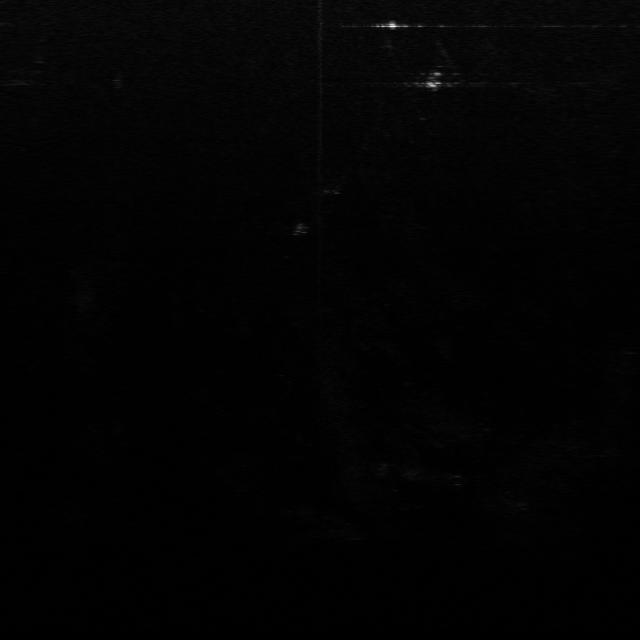rov: (420, 67, 450, 90)
